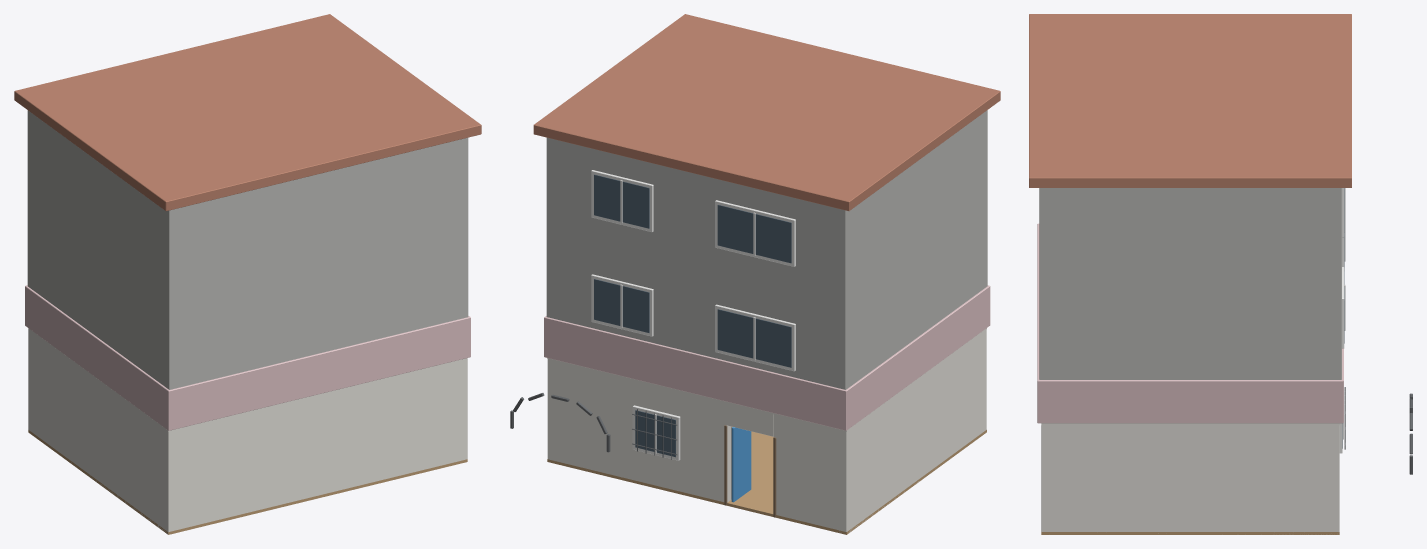
Rendered from Sultanbeyli_GreyPinkHouse46.fbx.
3 views of the same model, side by side, from view 1: azimuth 30°, elevation 25°; view 2: azimuth 150°, elevation 25°; view 3: azimuth 270°, elevation 25° (orthographic). The views are drawn at different scales.
Visible parts, largest first — view 1: Sultanbeyli_GreyPinkHouse46; view 2: Sultanbeyli_GreyPinkHouse46; view 3: Sultanbeyli_GreyPinkHouse46.
Boxes of the visible parts, x1,y1,x2,y2 form: Sultanbeyli_GreyPinkHouse46: (14,14,481,534); Sultanbeyli_GreyPinkHouse46: (510,14,1000,534); Sultanbeyli_GreyPinkHouse46: (1029,14,1412,534).
Bounding box in the file's own units: 9.5 × 9.76 × 9.39.
